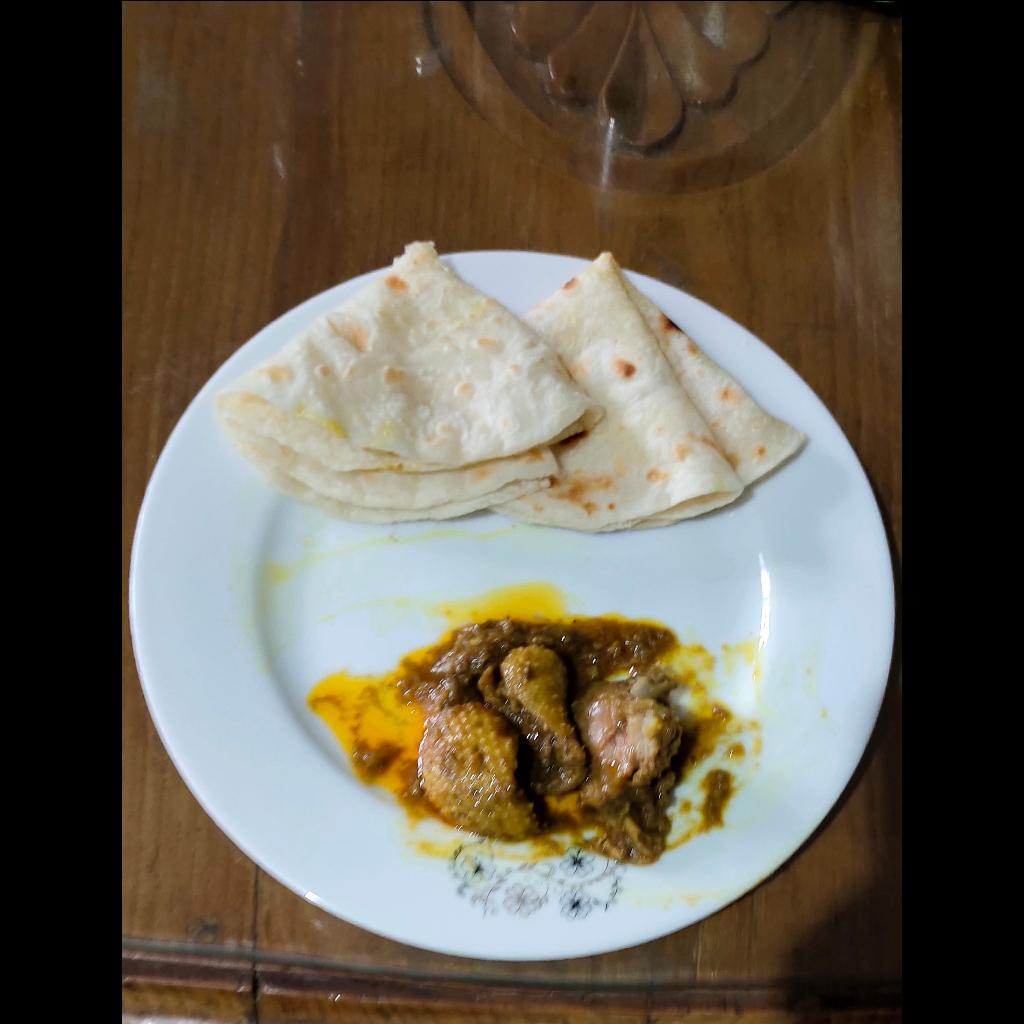chicken: (396, 618, 684, 862)
ruti: (221, 229, 809, 537)
